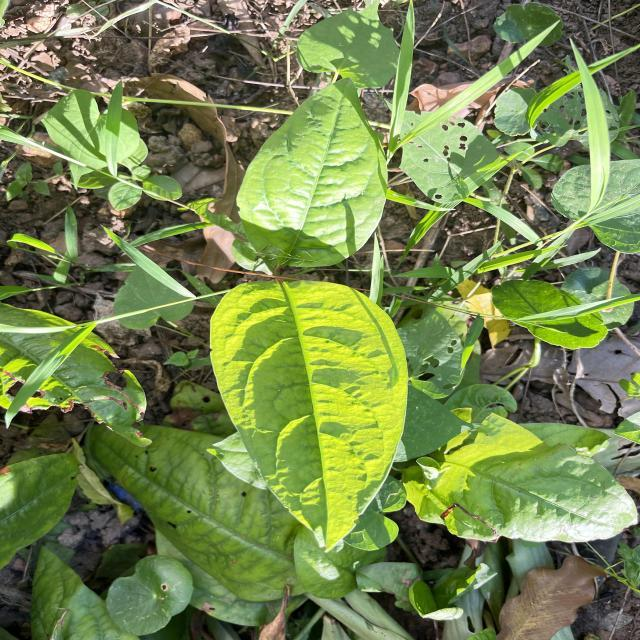Plumbago indica: (202, 271, 414, 556), (232, 72, 396, 276), (430, 421, 640, 546)
